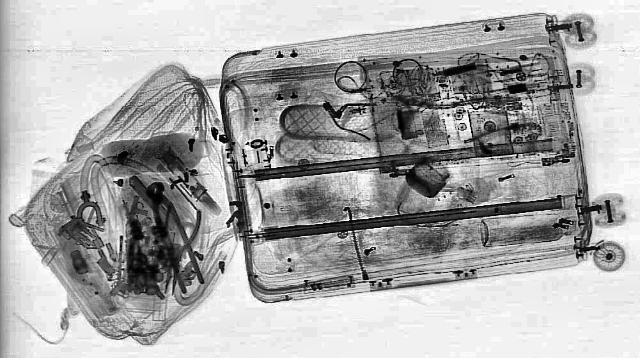Pliers: (150, 201, 203, 295)
